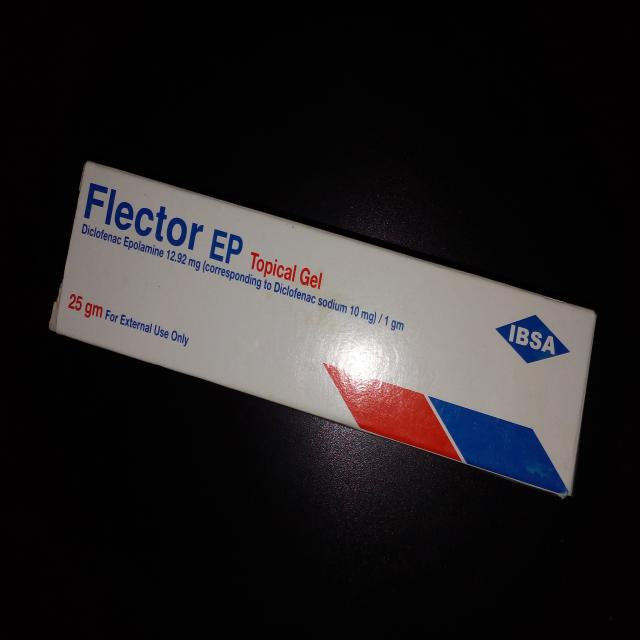Medicine: (47, 160, 602, 500)
